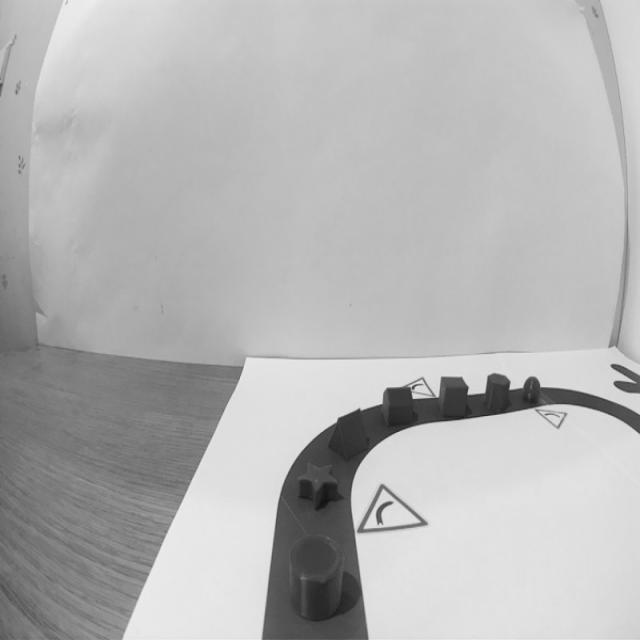ball: (520, 373, 546, 412)
cube: (436, 371, 471, 425)
cylinder: (285, 529, 349, 621)
hexagon: (483, 367, 514, 420)
home: (378, 384, 418, 430)
rightTurn: (347, 472, 436, 538)
star: (294, 459, 342, 512)
triangle: (326, 402, 372, 463)
